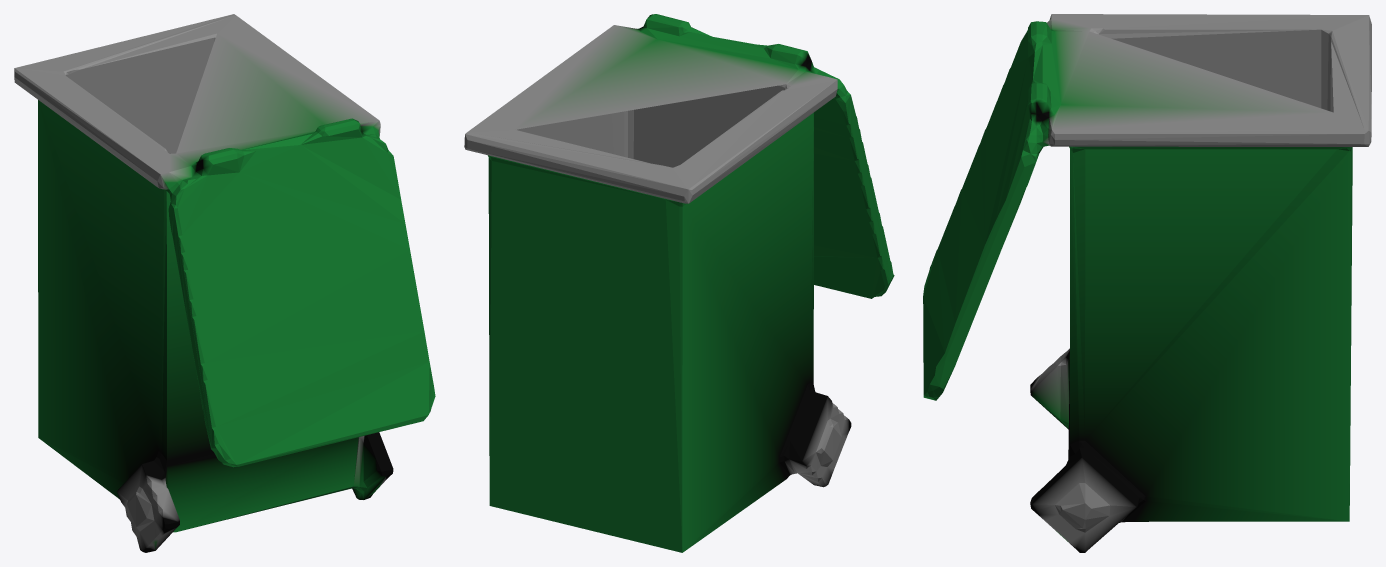
The model's file is Garbage Cans(1).glb.
The picture shows the model from 3 angles, left to right: view 1: azimuth 30°, elevation 25°; view 2: azimuth 150°, elevation 25°; view 3: azimuth 270°, elevation 25°; orthographic projection. The views are drawn at different scales.
Parts seen in each view (by area): view 1: Root; view 2: Root; view 3: Root.
Boxes of the visible parts, box(x1,y1,x2,y2) form: Root: box(14, 14, 435, 552); Root: box(464, 14, 894, 552); Root: box(923, 14, 1371, 552).
Size of the model in its own units: 0.7372 by 1.17 by 1.09.
